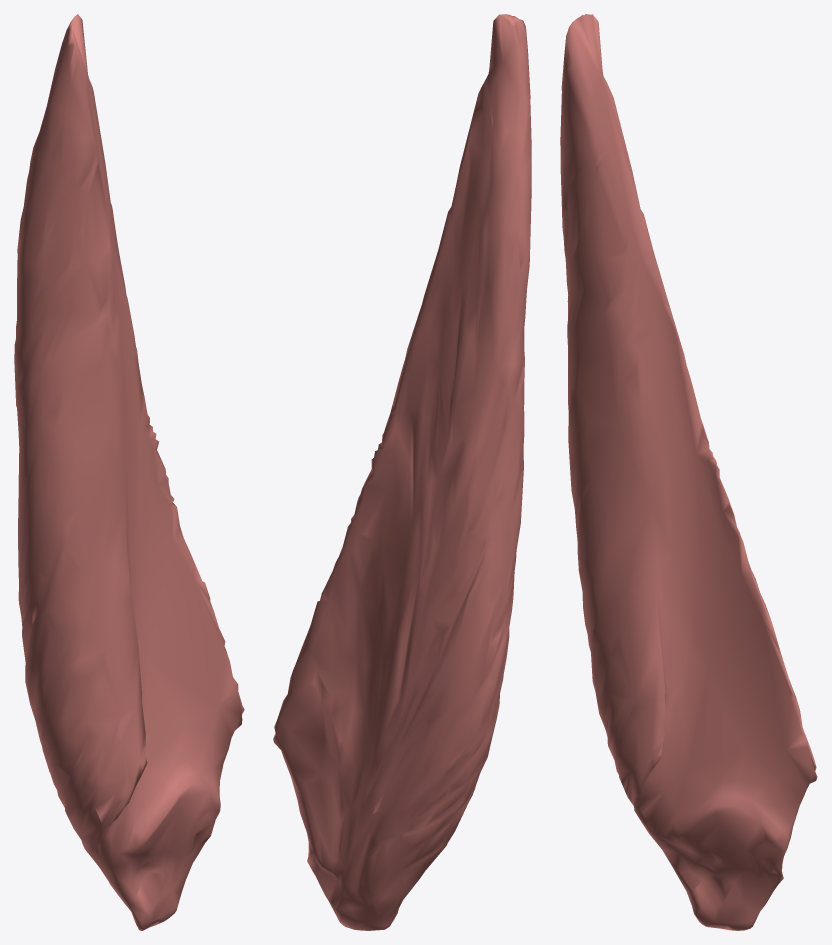
3 renders of one model, left to right at view 1: azimuth 30°, elevation 25°; view 2: azimuth 150°, elevation 25°; view 3: azimuth 330°, elevation 25°, orthographic. The views are drawn at different scales.
Parts seen in each view (by area): view 1: ZA_f0a2b9e97a614a23; view 2: ZA_f0a2b9e97a614a23; view 3: ZA_f0a2b9e97a614a23.
Part boxes in pixels (<box>): ZA_f0a2b9e97a614a23: <box>14,14,244,930</box>; ZA_f0a2b9e97a614a23: <box>273,14,531,930</box>; ZA_f0a2b9e97a614a23: <box>560,14,817,930</box>.
Bounding box in the file's own units: 0.0623 × 0.2343 × 0.0267.
